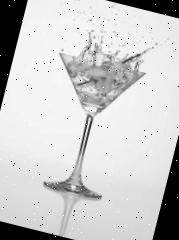glass: (26, 50, 148, 207)
